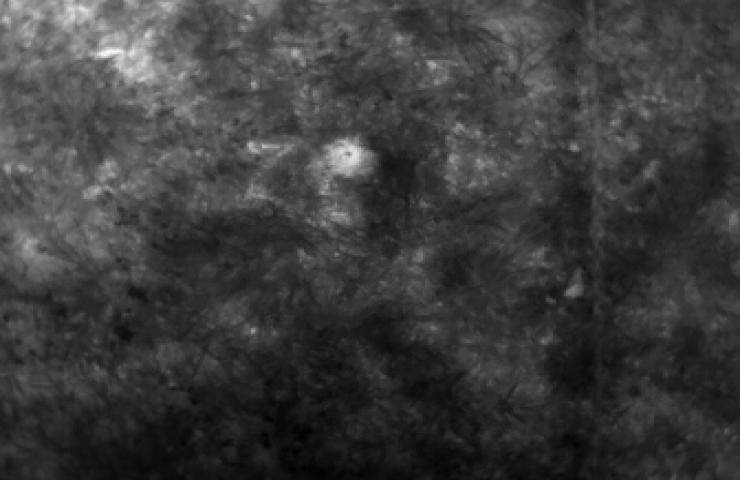landmines: (324, 138, 380, 179)
